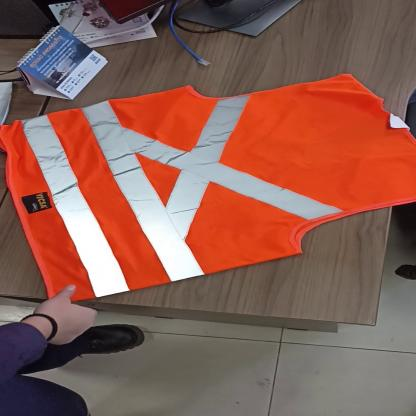colete: (2, 72, 416, 303)
